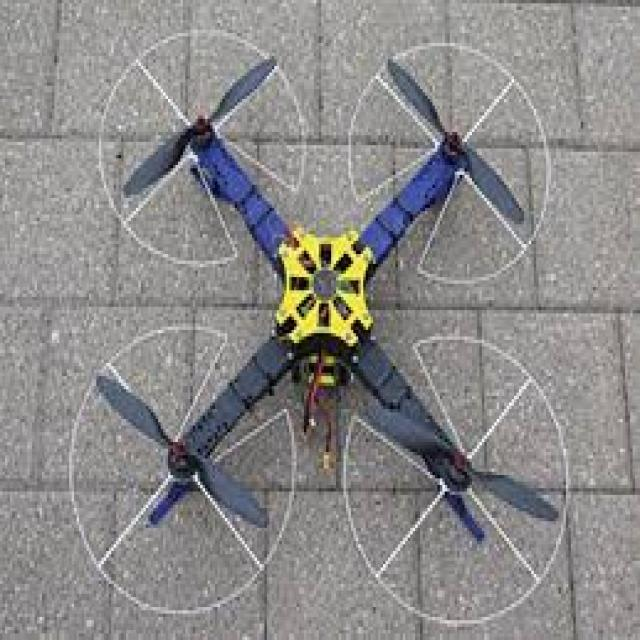drone: (28, 0, 616, 640)
